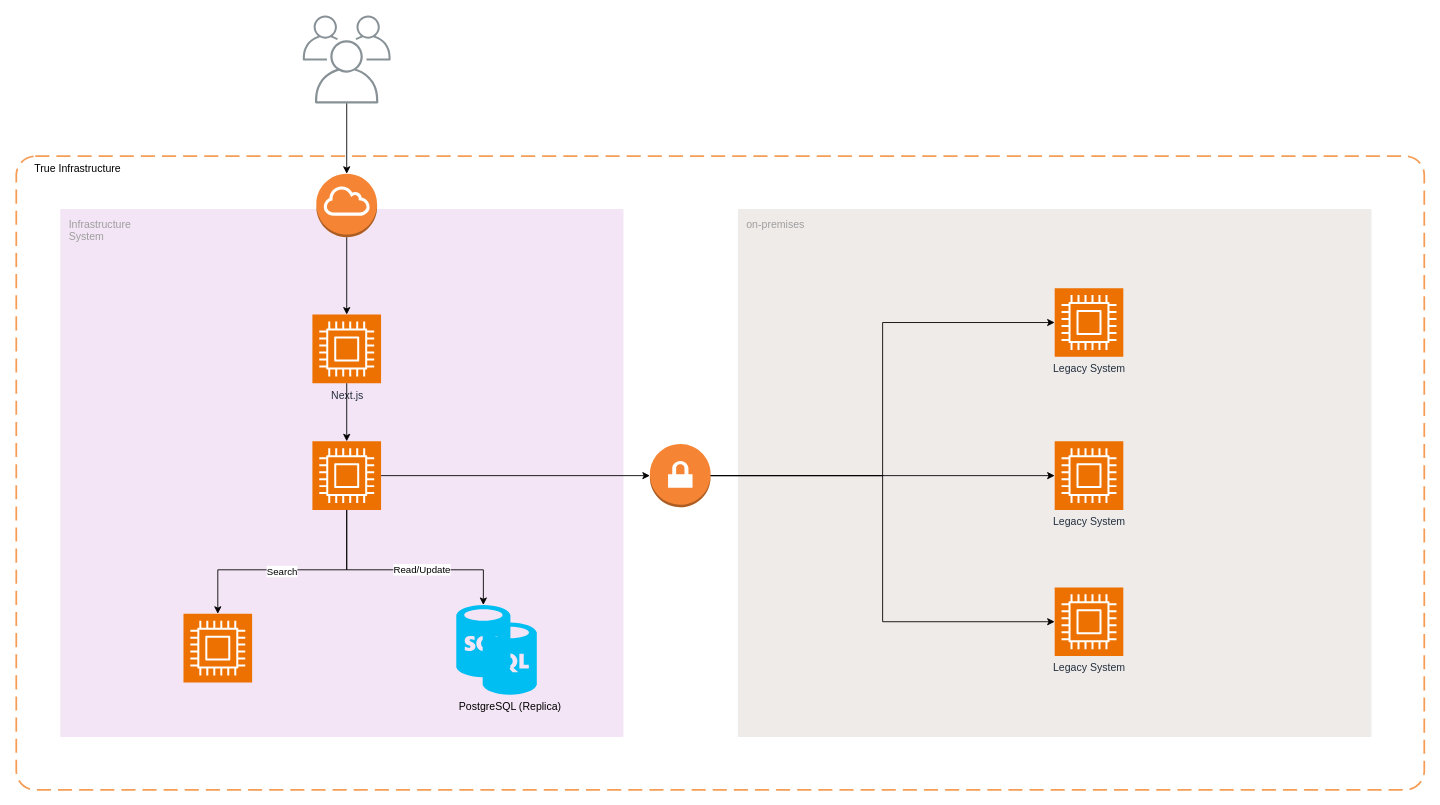
This 1440x805 diagram has some shape labels left out. Here are the shapes that lost their labels. From the top down, the centre of each, then its label:
the point at 346,59: users
the point at 346,475: Strapi
the point at 217,647: Elasticsearch
the point at 483,641: PostgreSQL (Master)
